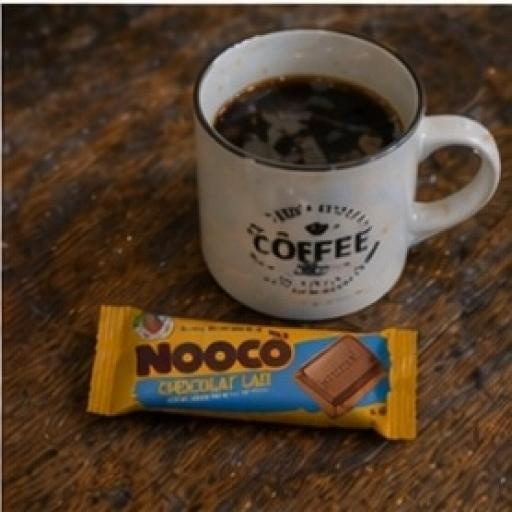biscuit-detection: (76, 262, 428, 473)
